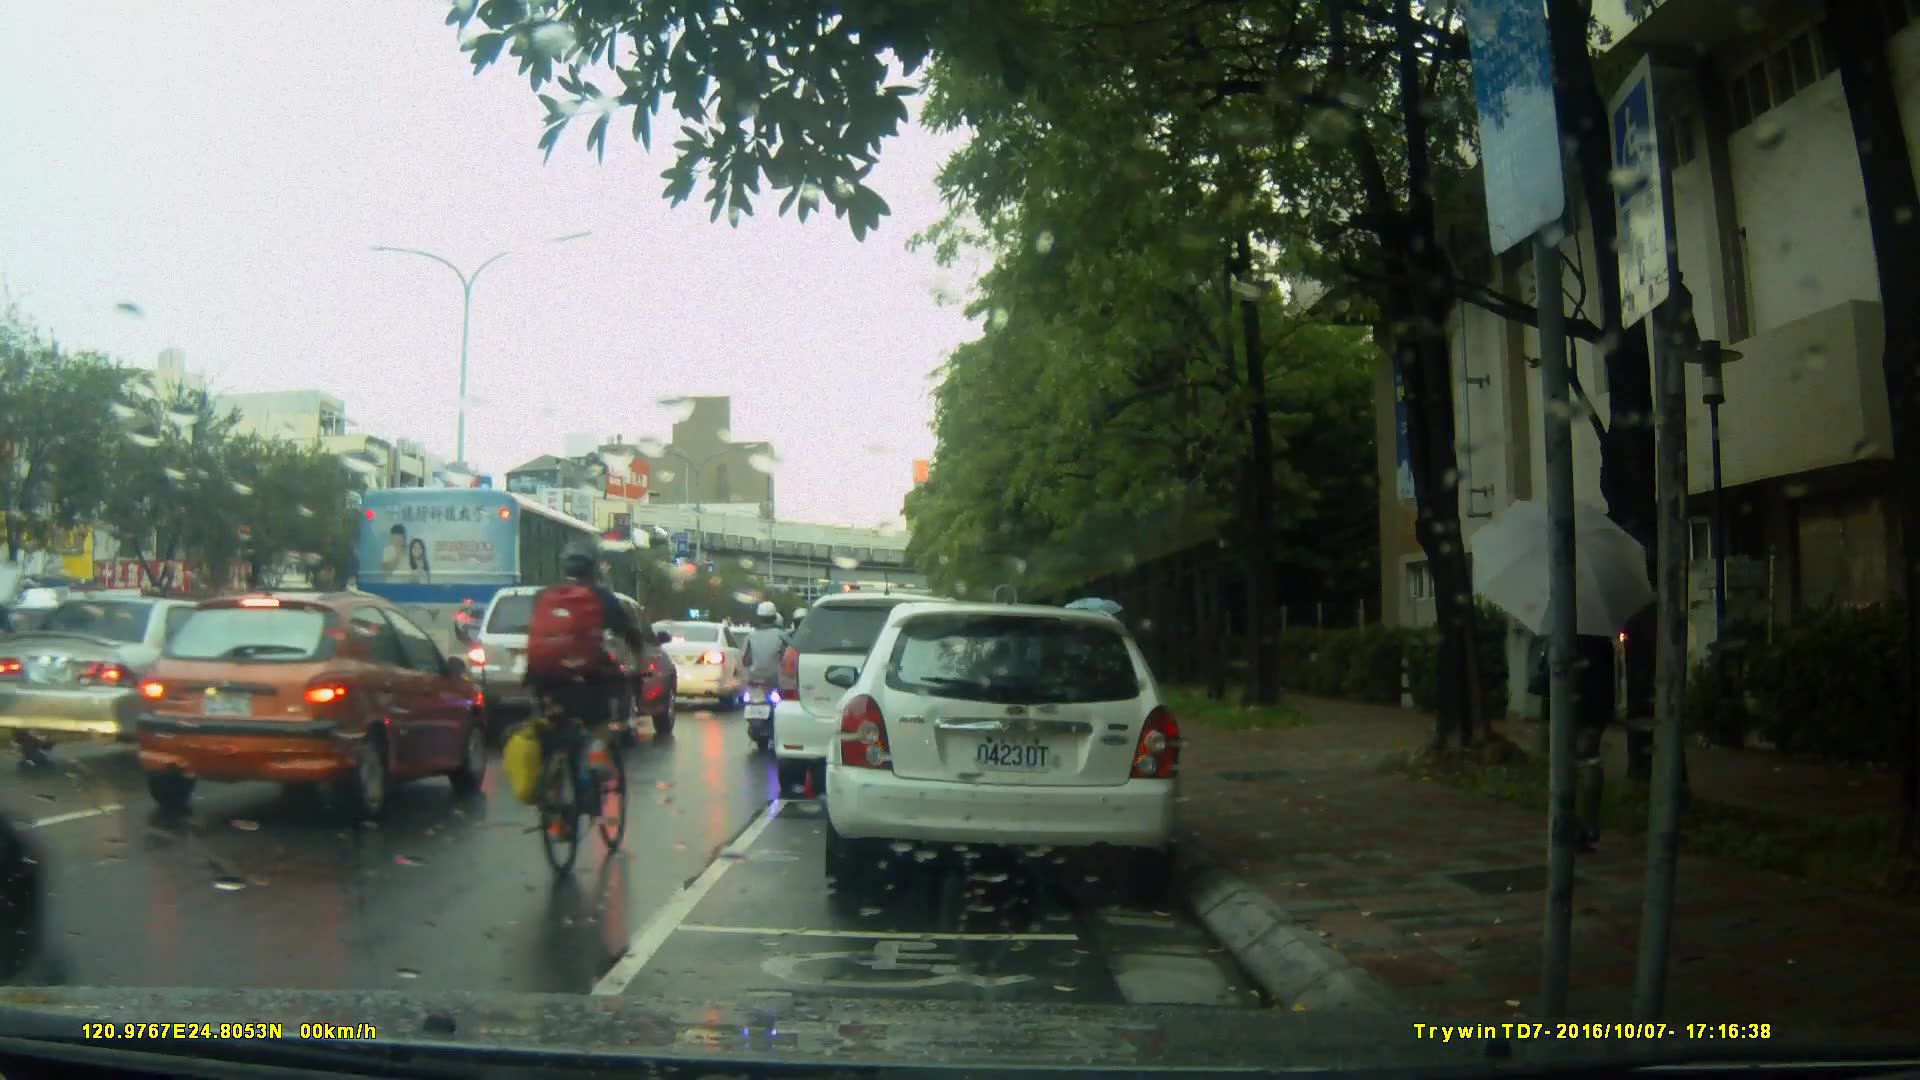pedestrian: (1521, 528, 1651, 868)
rider: (508, 545, 633, 878), (743, 598, 803, 749), (775, 605, 823, 727)
vehicle: (835, 594, 1194, 898), (126, 590, 491, 832), (352, 484, 647, 728), (1, 591, 283, 771), (776, 590, 1026, 784), (460, 582, 679, 744)
